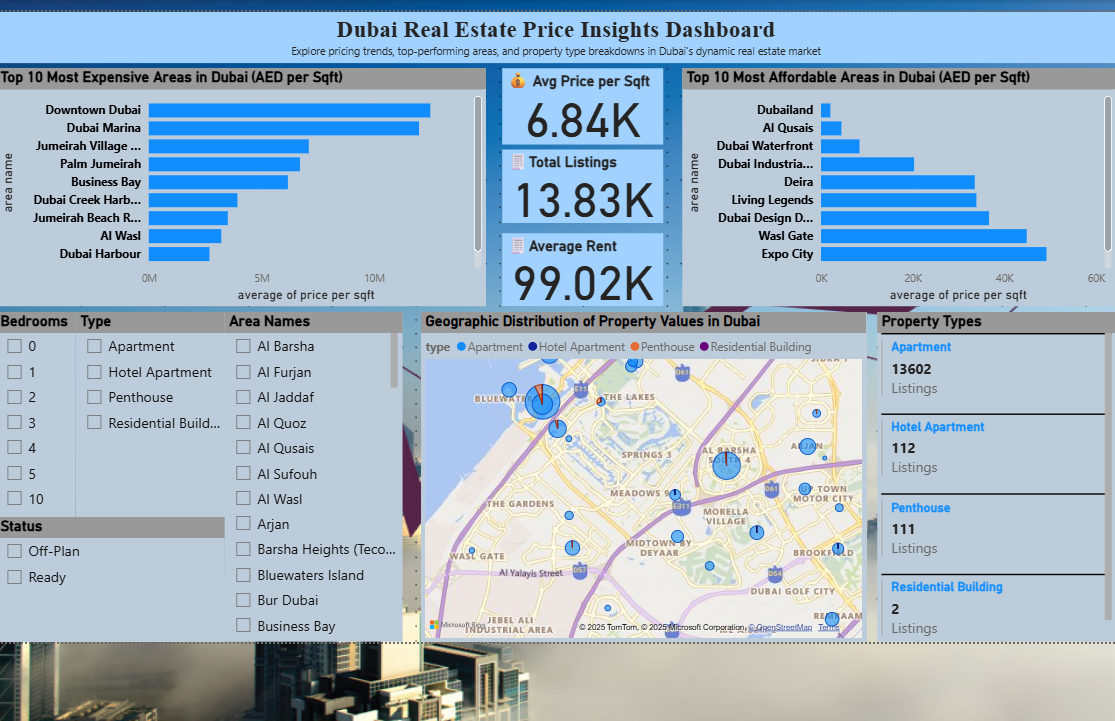

The page's visual inventory and layout, read from the dashboard file:
{"tool":"powerbi","page":{"name":"Page 1","canvas":[1280,720],"ordinal":0},"visuals":[{"type":"clusteredBarChart","title":"Top 10 Most Expensive Areas in Dubai (AED per Sqft)","fields":{"Category":["cleaned_dubai_real_estate.area_name"],"Y":["Sum(cleaned_dubai_real_estate.price_per_sqft)"]},"box":[0,64,560,272],"z":0},{"type":"textbox","box":[0,0,1280,58.6],"z":1000},{"type":"clusteredBarChart","title":"Top 10 Most Affordable Areas in Dubai (AED per Sqft)","fields":{"Category":["cleaned_dubai_real_estate.area_name"],"Y":["Sum(cleaned_dubai_real_estate.price_per_sqft)"]},"box":[784,64,496,272],"z":2000},{"type":"map","title":"Geographic Distribution of Property Values in Dubai","fields":{"Y":["cleaned_dubai_real_estate.latitude"],"X":["cleaned_dubai_real_estate.longitude"],"Size":["Sum(cleaned_dubai_real_estate.price_per_sqft)"],"Series":["cleaned_dubai_real_estate.type"]},"box":[485.7,342.9,508.6,377.1],"z":3000},{"type":"slicer","title":"Bedrooms","fields":{"Values":["cleaned_dubai_real_estate.beds"]},"box":[0,342.9,91.4,234.3],"z":4000},{"type":"slicer","title":"Type","fields":{"Values":["cleaned_dubai_real_estate.type"]},"box":[91.4,342.9,170,234.3],"z":5000},{"type":"slicer","title":"Status","fields":{"Values":["cleaned_dubai_real_estate.completion_status"]},"box":[0,577.1,261.4,142.9],"z":6000},{"type":"slicer","title":"Area Names","fields":{"Values":["cleaned_dubai_real_estate.area_name"]},"box":[261.4,342.9,202.9,377.1],"z":7000},{"type":"card","title":"💰 Avg Price per Sqft","fields":{"Values":["Avg(cleaned_dubai_real_estate.price_per_sqft)"]},"box":[578.6,64.3,184.3,87.1],"z":8000},{"type":"card","title":"🧾Total Listings","fields":{"Values":["CountNonNull(cleaned_dubai_real_estate.area_name)"]},"box":[578.6,157.1,184.3,84.3],"z":9000},{"type":"card","title":"🧾Average Rent ","fields":{"Values":["Avg(cleaned_dubai_real_estate.average_rent)"]},"box":[578.6,252.9,184.3,82.9],"z":10000},{"type":"multiRowCard","title":"Property Types","fields":{"Values":["CountNonNull(cleaned_dubai_real_estate.area_name)","cleaned_dubai_real_estate.type"]},"box":[1007.1,342.9,272.9,377.1],"z":11000}]}

Visuals, with their boxes in screenshot pixels (x1, y1, x2, y2):
"Top 10 Most Expensive Areas in Dubai (AED per Sqft)" clusteredBarChart: select_region(3, 64, 484, 297)
textbox: select_region(3, 9, 1102, 59)
"Top 10 Most Affordable Areas in Dubai (AED per Sqft)" clusteredBarChart: select_region(676, 64, 1102, 297)
"Geographic Distribution of Property Values in Dubai" map: select_region(420, 303, 857, 627)
"Bedrooms" slicer: select_region(3, 303, 81, 505)
"Type" slicer: select_region(81, 303, 227, 505)
"Status" slicer: select_region(3, 504, 227, 627)
"Area Names" slicer: select_region(227, 303, 402, 627)
"💰 Avg Price per Sqft" card: select_region(500, 64, 658, 139)
"🧾Total Listings" card: select_region(500, 144, 658, 216)
"🧾Average Rent " card: select_region(500, 226, 658, 297)
"Property Types" multiRowCard: select_region(868, 303, 1102, 627)
